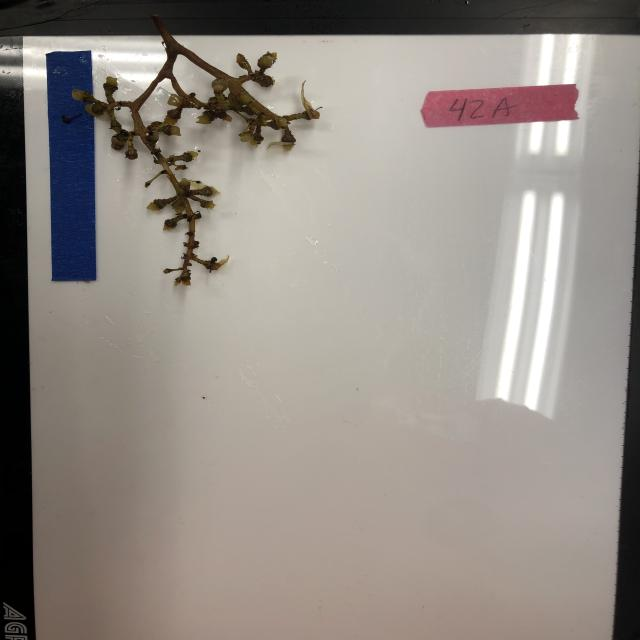index: (420, 81, 578, 128)
measure_label: (47, 49, 100, 282)
rachis_cluster: (61, 3, 327, 292)
